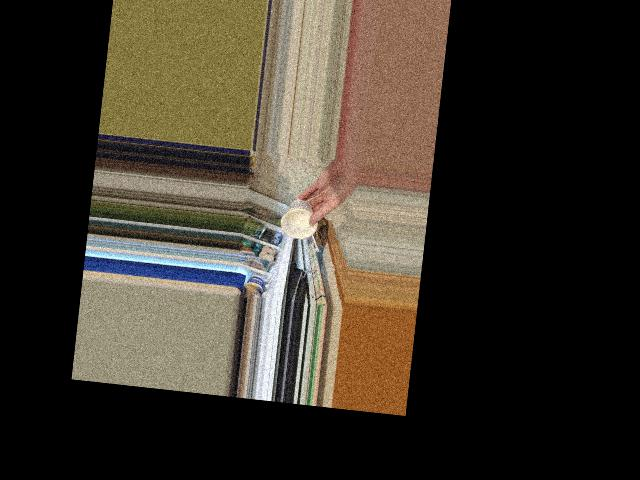cotage: (284, 196, 315, 244)
